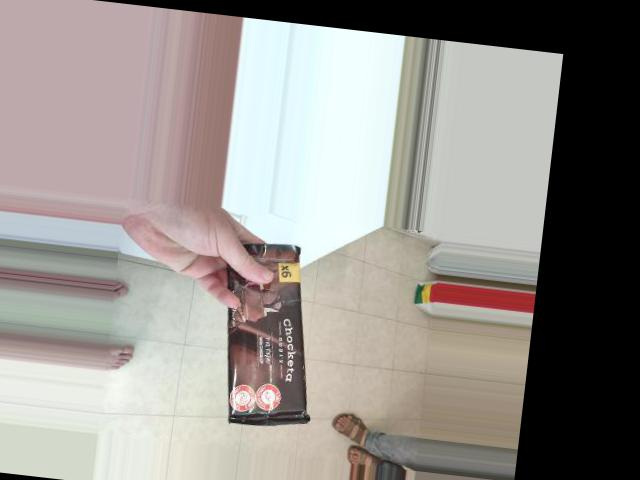chocolate: (204, 232, 329, 431)
